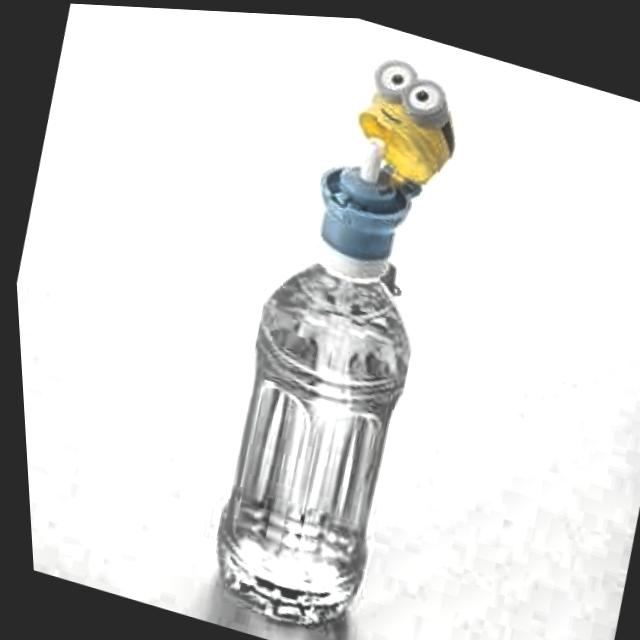Bottles: (122, 5, 531, 640)
